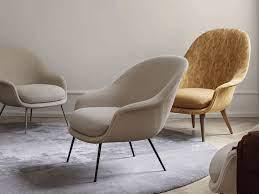chair: (2, 16, 254, 183)
